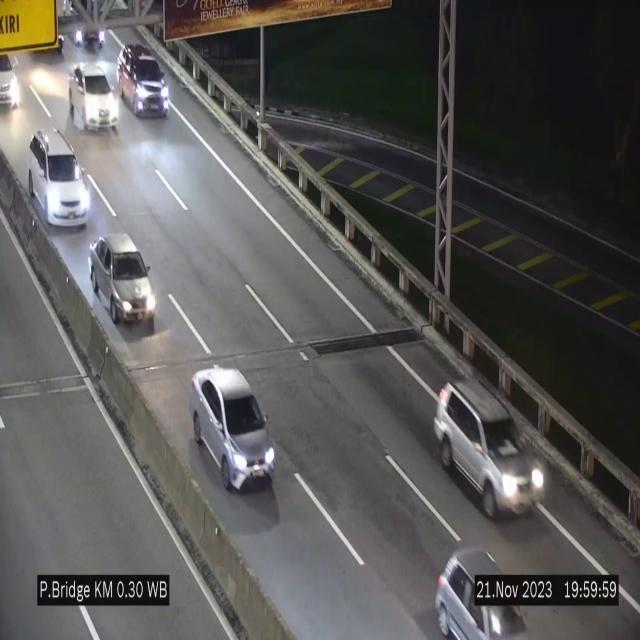Car: (438, 386, 544, 527), (190, 368, 276, 488), (429, 553, 543, 640), (89, 231, 157, 326), (28, 128, 90, 228), (61, 55, 123, 136), (118, 44, 170, 116), (0, 52, 26, 118)
